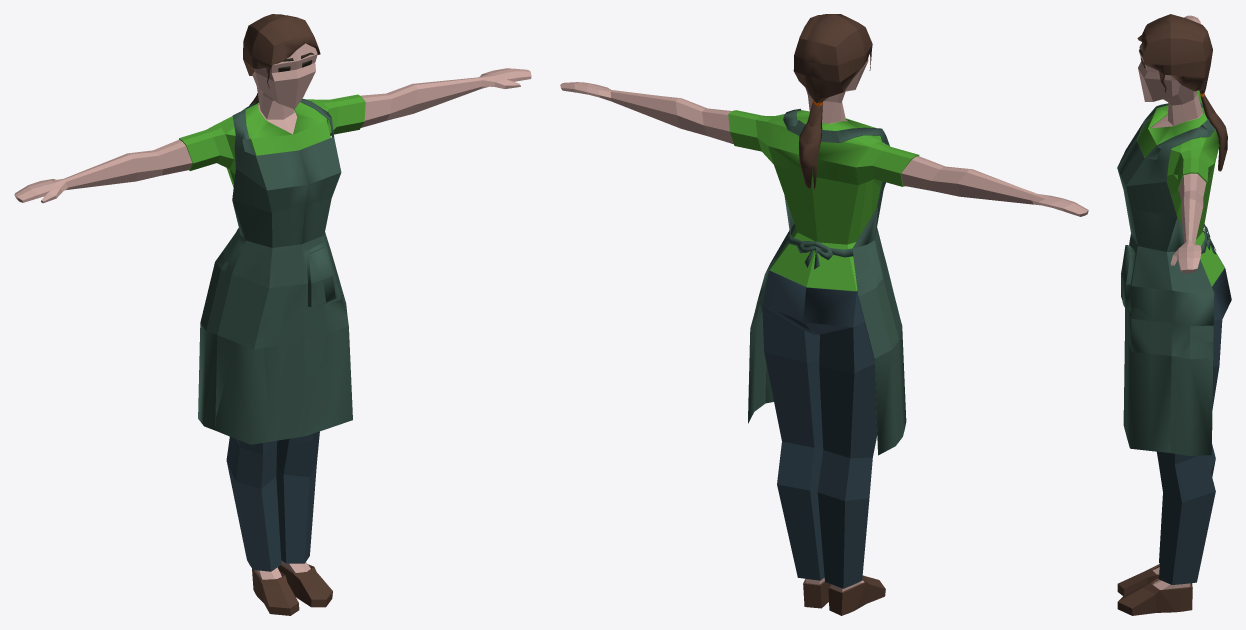
The model's file is sprzatczak.fbx.
3 views of the same model, side by side, from view 1: azimuth 30°, elevation 25°; view 2: azimuth 150°, elevation 25°; view 3: azimuth 270°, elevation 25° (orthographic). The views are drawn at different scales.
Parts seen in each view (by area): view 1: woman armature.003; view 2: woman armature.003; view 3: woman armature.003.
Part boxes in pixels (left/top/right/bottom): woman armature.003: left=14, top=14, right=531, bottom=615; woman armature.003: left=560, top=14, right=1088, bottom=615; woman armature.003: left=1117, top=14, right=1231, bottom=615.
Size of the model in its own units: 962 by 1033 by 184.
